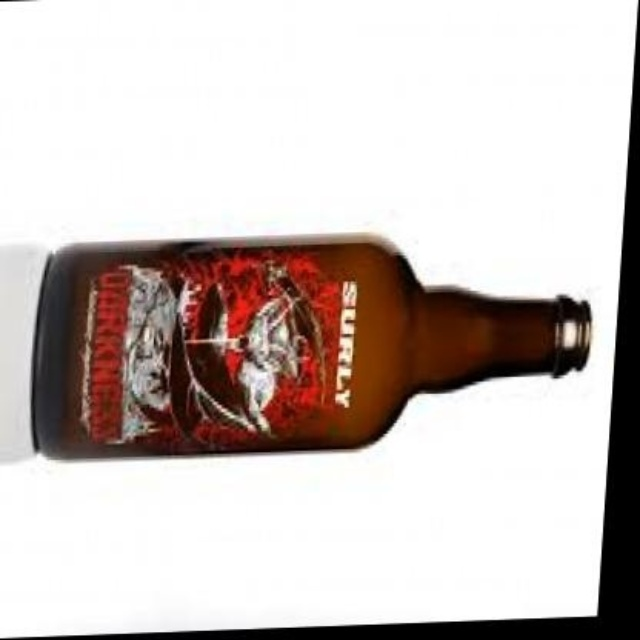trash: (32, 234, 589, 457)
